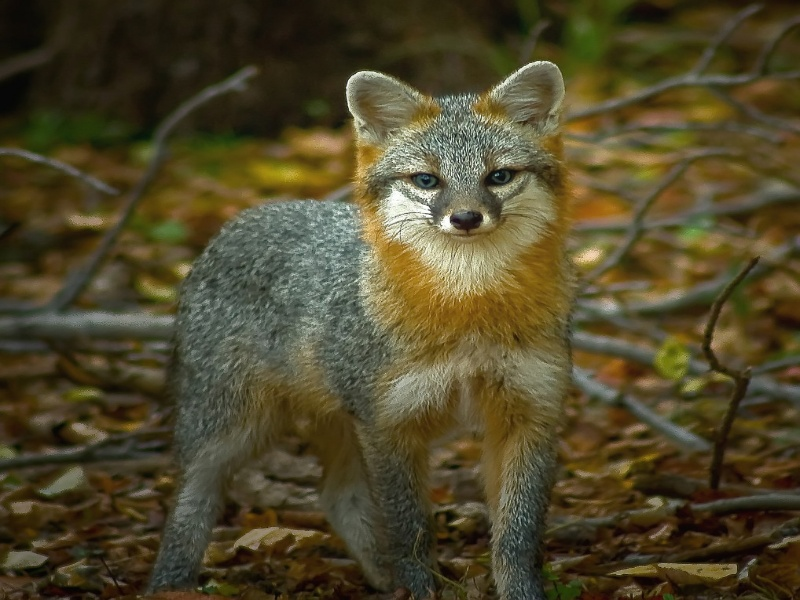fox: (146, 51, 581, 597)
